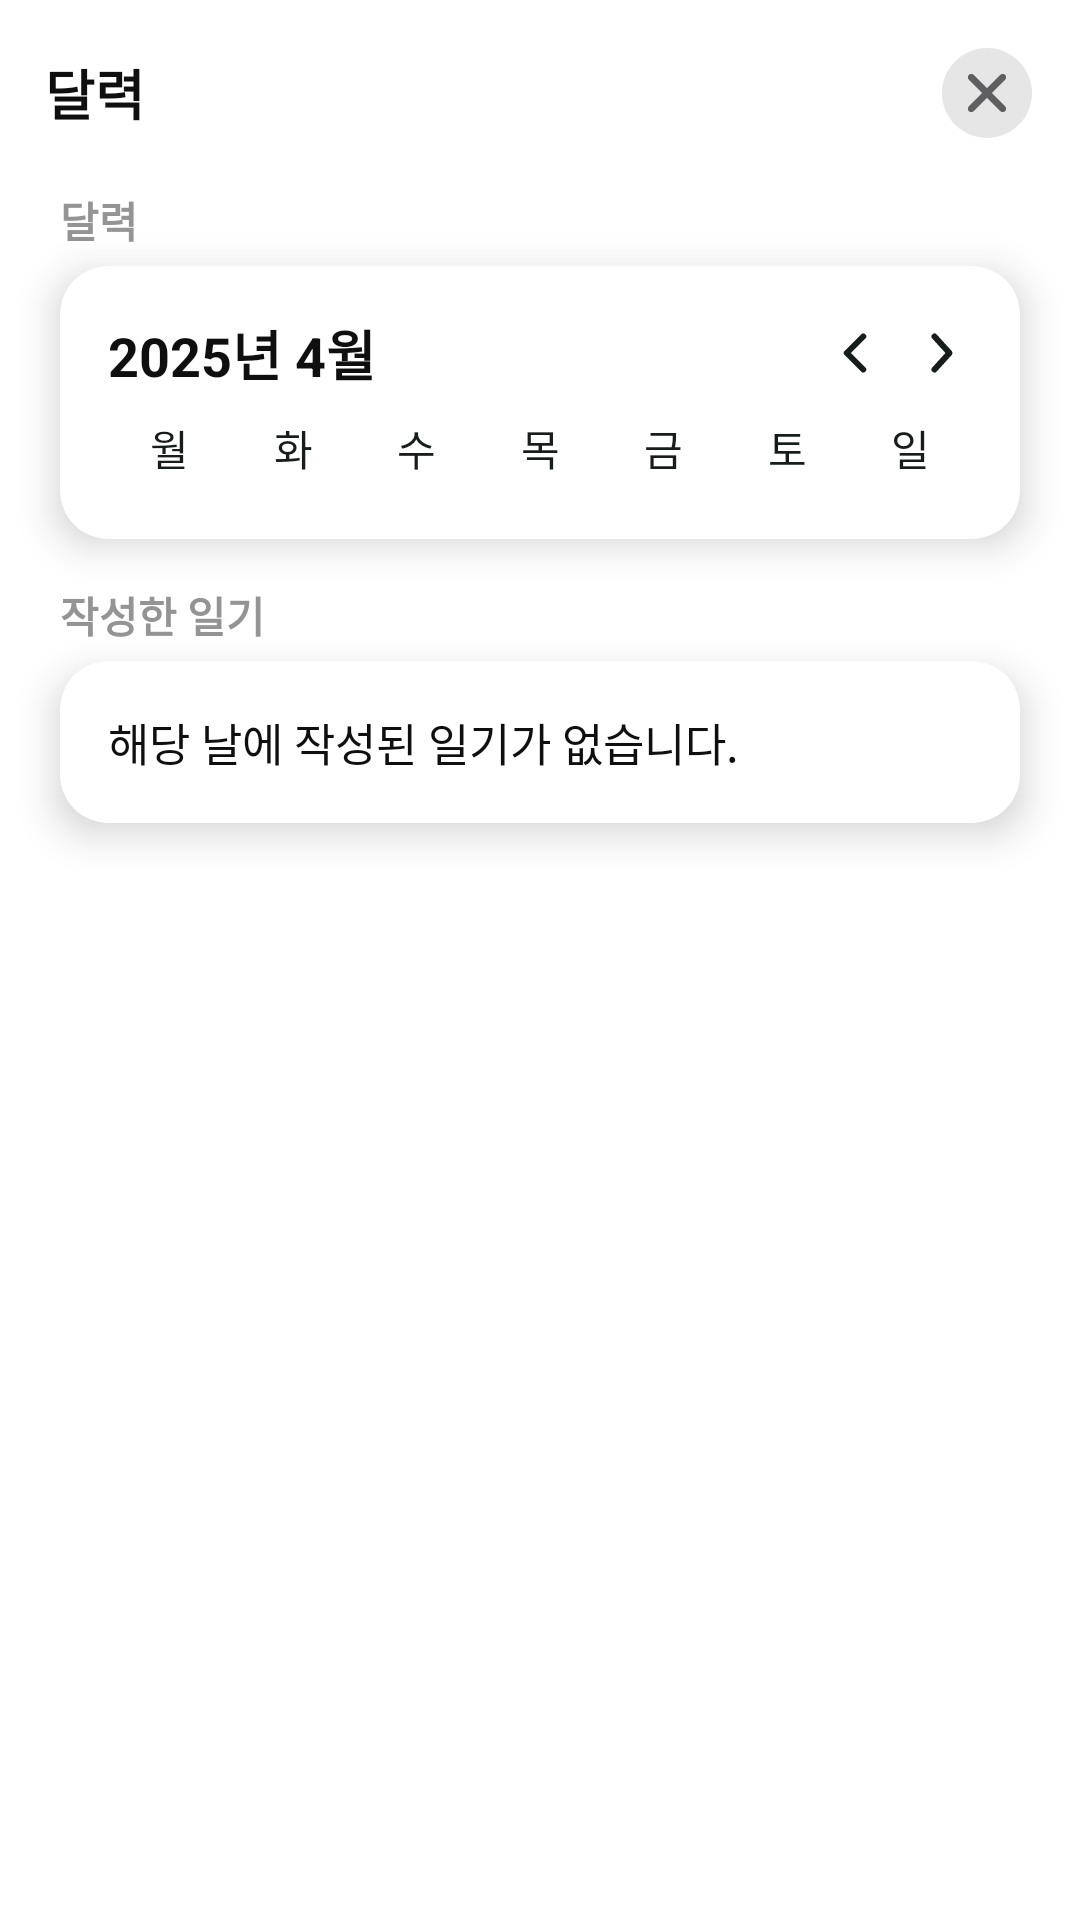

Locate icon controls on the screen. Image size 1080 × 1920, boxes as box(x1, y1, x2, y2).
다음 달: box(931, 333, 953, 373)
닫기: box(942, 48, 1032, 138)
이전 달: box(843, 333, 867, 373)
